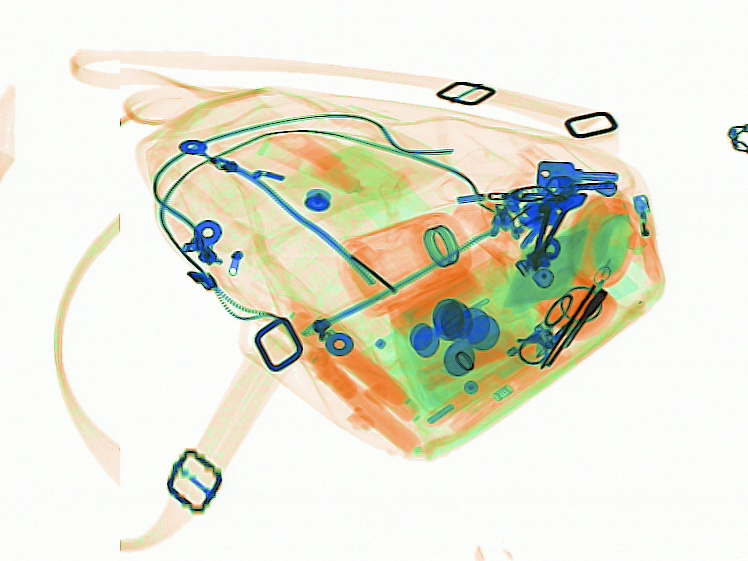lighter: (626, 186, 665, 288)
